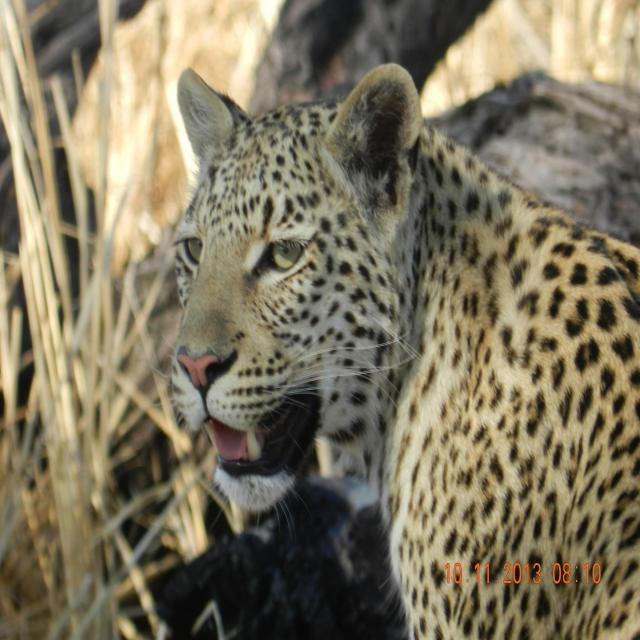Leopard: (95, 69, 640, 639)
